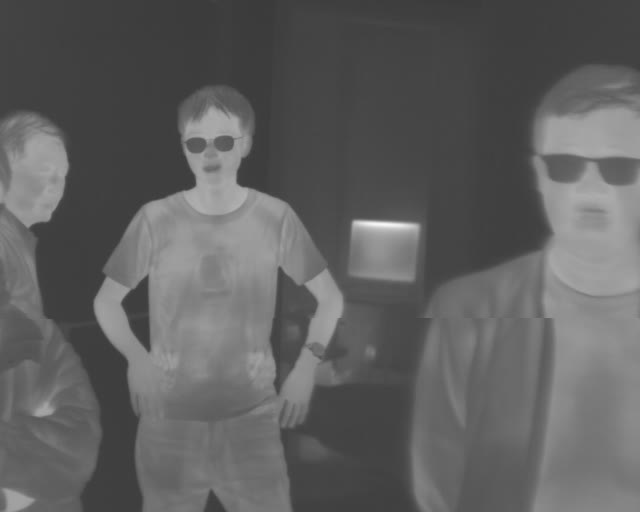face: (528, 62, 640, 258), (178, 83, 254, 188)
